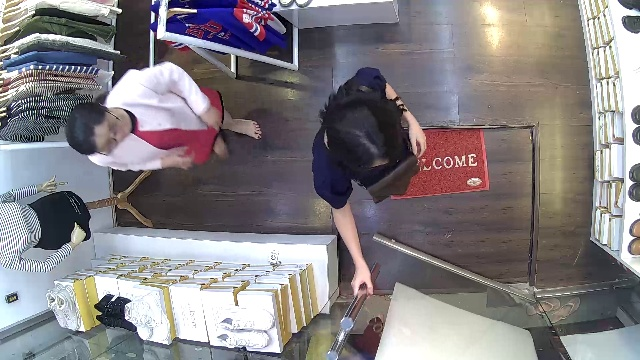topviewhead: (316, 96, 416, 177), (57, 96, 131, 161)
